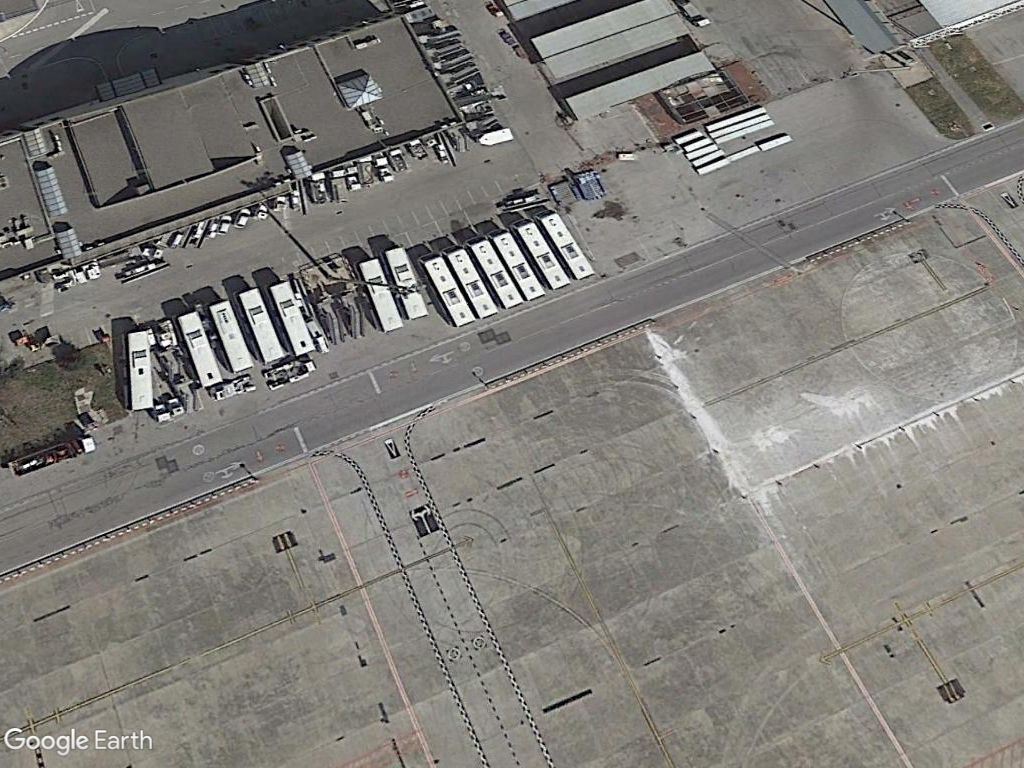bus: (233, 282, 287, 367), (354, 253, 407, 335), (175, 308, 224, 391), (124, 327, 154, 413)
